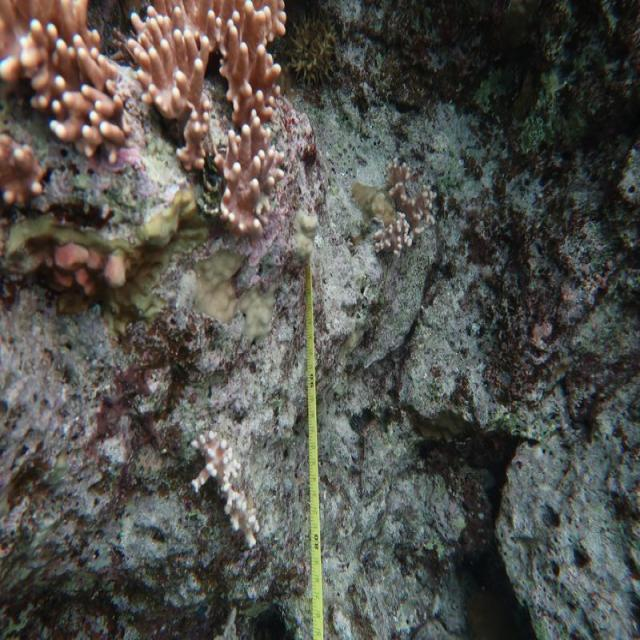Healthy Coral: (135, 0, 295, 229), (0, 0, 130, 183), (172, 246, 291, 339), (185, 430, 271, 546), (371, 150, 437, 260), (50, 229, 119, 314)
